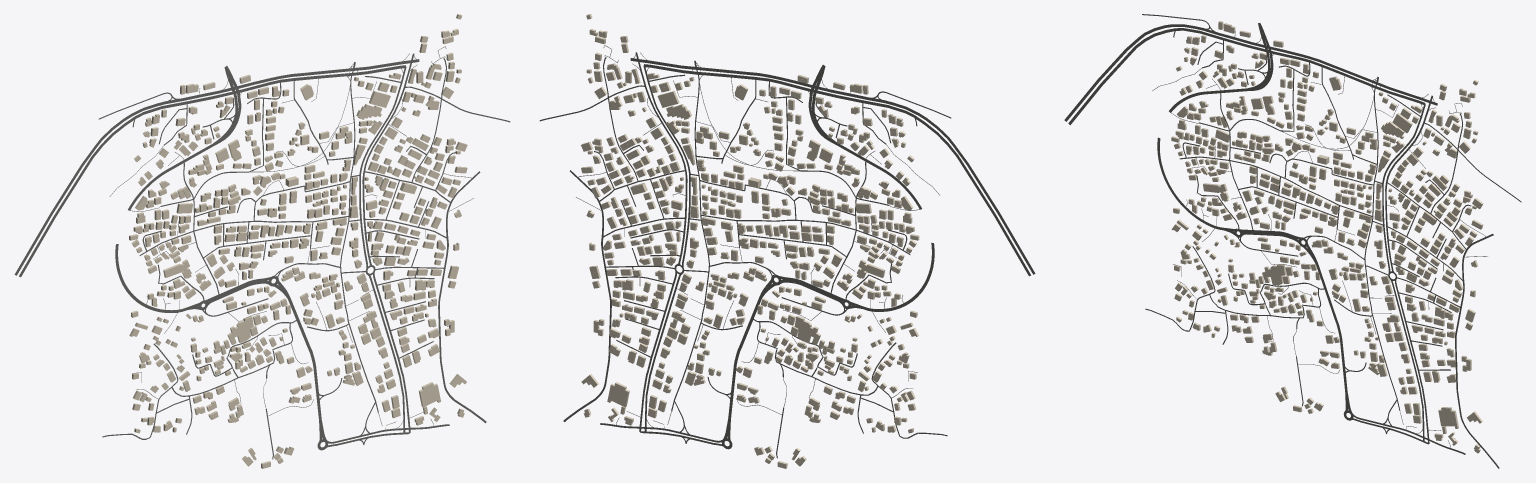
The model's file is historic-palestine-10_24_3522_3182.glb.
3 views of the same model, side by side, from view 1: azimuth 30°, elevation 25°; view 2: azimuth 150°, elevation 25°; view 3: azimuth 330°, elevation 25° (orthographic). The views are drawn at different scales.
Parts seen in each view (by area): view 1: Road עבד אלחמיד שומאן.005, Road עבד אלחמיד שומאן.001, Road בית חנינא.002; view 2: Road עבד אלחמיד שומאן.005, Road עבד אלחמיד שומאן.001, Road בית חנינא.002; view 3: Road עבד אלחמיד שומאן.005, Road עבד אלחמיד שומאן.001.
Part boxes in pixels (<box>): Road עבד אלחמיד שומאן.005: <box>14,68,346,275</box>; Road עבד אלחמיד שומאן.001: <box>19,73,344,277</box>; Road בית חנינא.002: <box>362,53,414,266</box>; Road עבד אלחמיד שומאן.005: <box>703,67,1035,274</box>; Road עבד אלחמיד שומאן.001: <box>705,72,1030,276</box>; Road בית חנינא.002: <box>635,52,687,265</box>; Road עבד אלחמיד שומאן.005: <box>1064,24,1370,121</box>; Road עבד אלחמיד שומאן.001: <box>1068,28,1368,125</box>.
Bounding box in the file's own units: 1433 × 1162 × 17.09.
